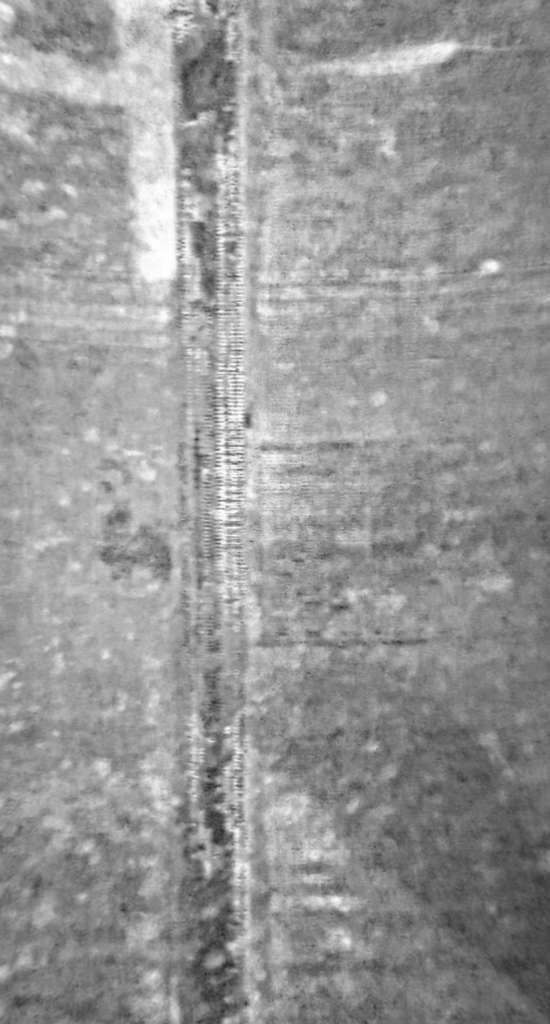splice: (158, 5, 266, 1024)
